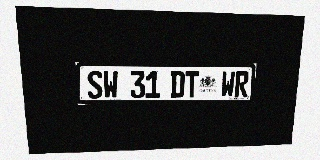1: (145, 71, 160, 98)
3: (130, 71, 145, 98)
D: (170, 71, 185, 98)
R: (234, 71, 249, 97)
S: (87, 71, 103, 99)
T: (185, 71, 199, 98)
W: (103, 71, 119, 99), (221, 71, 235, 97)
